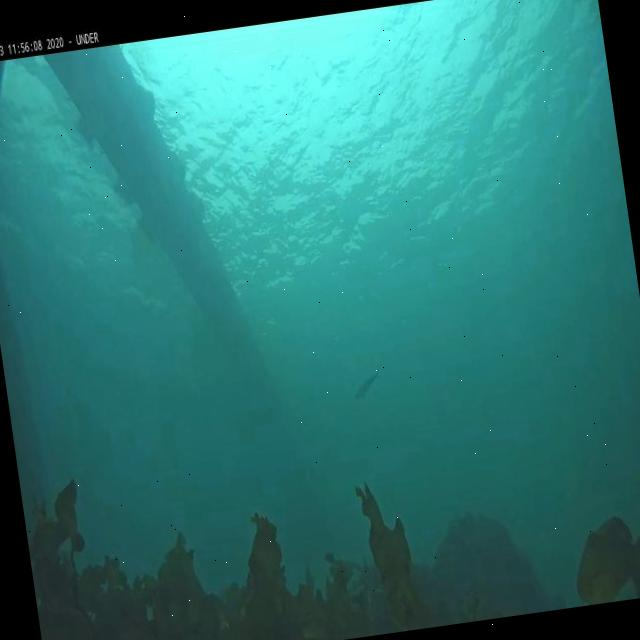fish: (352, 369, 384, 402)
